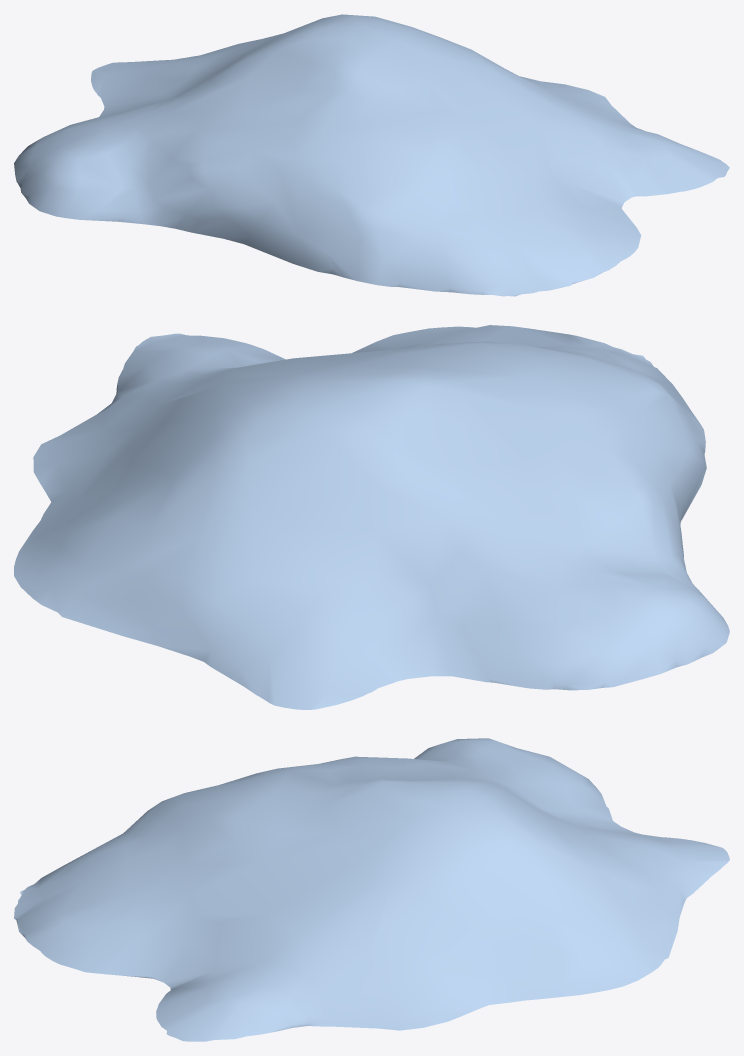
File: IcePatchSmall_03.fbx
3 views of the same model, one above another, from view 1: azimuth 30°, elevation 25°; view 2: azimuth 150°, elevation 25°; view 3: azimuth 270°, elevation 25° (orthographic). The views are drawn at different scales.
Visible parts, largest first — view 1: IcePatchSmall_03.001; view 2: IcePatchSmall_03.001; view 3: IcePatchSmall_03.001.
Part boxes in pixels (x1,y1,x2,y2): IcePatchSmall_03.001: (14,14,729,296); IcePatchSmall_03.001: (14,325,729,709); IcePatchSmall_03.001: (14,738,729,1041).
Size of the model in its own units: 1.08 by 0.1993 by 1.13.
